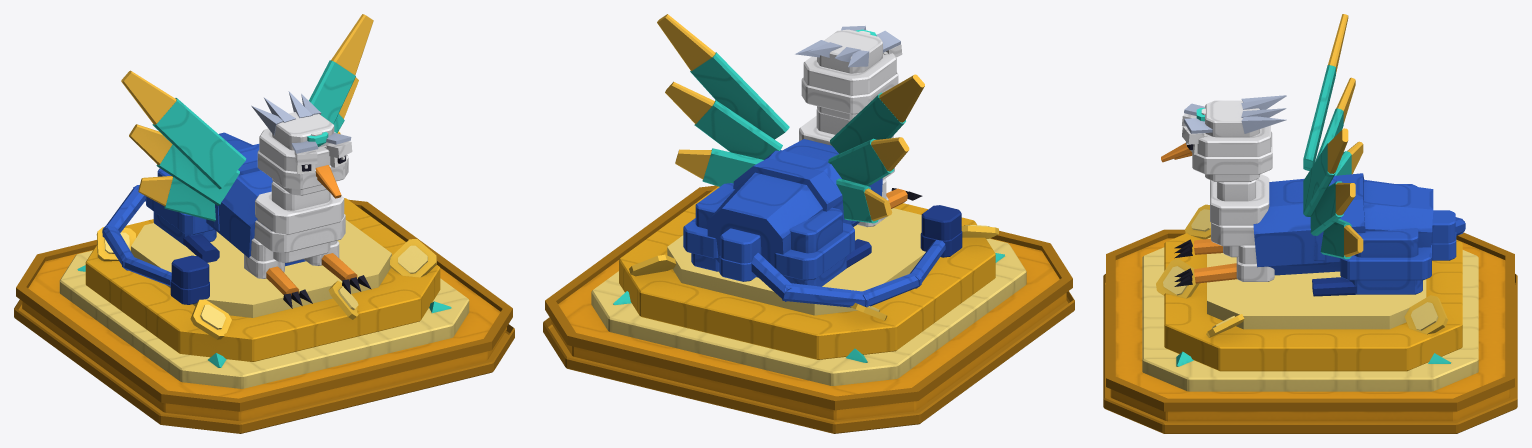
Rendered from TreasureGriffin.fbx.
3 renders of one model, left to right at view 1: azimuth 30°, elevation 25°; view 2: azimuth 150°, elevation 25°; view 3: azimuth 270°, elevation 25°, orthographic. The views are drawn at different scales.
Parts seen in each view (by area): view 1: Art_TreasureGriffin_Stand, Art_TreasureGriffin_Hoard, Art_TreasureGriffin_Body, Art_TreasureGriffin_WingR, Art_TreasureGriffin_Head, Art_TreasureGriffin_Tail, Art_TreasureGriffin_WingL; view 2: Art_TreasureGriffin_Stand, Art_TreasureGriffin_Hoard, Art_TreasureGriffin_Body, Art_TreasureGriffin_WingL, Art_TreasureGriffin_Tail, Art_TreasureGriffin_WingR, Art_TreasureGriffin_Head; view 3: Art_TreasureGriffin_Stand, Art_TreasureGriffin_Hoard, Art_TreasureGriffin_Body, Art_TreasureGriffin_Head, Art_TreasureGriffin_WingL, Art_TreasureGriffin_WingR, Art_TreasureGriffin_Tail.
Part boxes in pixels (<box>): Art_TreasureGriffin_Stand: <box>14,199,514,433</box>; Art_TreasureGriffin_Hoard: <box>85,198,440,361</box>; Art_TreasureGriffin_Body: <box>146,132,371,308</box>; Art_TreasureGriffin_WingR: <box>121,70,246,221</box>; Art_TreasureGriffin_Head: <box>251,91,352,198</box>; Art_TreasureGriffin_Tail: <box>102,185,209,304</box>; Art_TreasureGriffin_WingL: <box>309,14,373,134</box>; Art_TreasureGriffin_Stand: <box>543,185,1074,433</box>; Art_TreasureGriffin_Hoard: <box>619,186,998,359</box>; Art_TreasureGriffin_Body: <box>683,108,922,286</box>; Art_TreasureGriffin_WingL: <box>657,14,789,186</box>; Art_TreasureGriffin_Tail: <box>719,205,962,307</box>; Art_TreasureGriffin_WingR: <box>828,74,924,223</box>; Art_TreasureGriffin_Head: <box>795,25,902,120</box>; Art_TreasureGriffin_Stand: <box>1103,229,1517,433</box>; Art_TreasureGriffin_Hoard: <box>1156,204,1462,371</box>; Art_TreasureGriffin_Body: <box>1174,173,1433,296</box>; Art_TreasureGriffin_Head: <box>1161,95,1286,181</box>; Art_TreasureGriffin_WingL: <box>1303,128,1363,259</box>; Art_TreasureGriffin_WingR: <box>1303,14,1363,175</box>; Art_TreasureGriffin_Tail: <box>1431,210,1465,260</box>.
Size of the model in its own units: 3.4 by 2.5 by 3.4.
